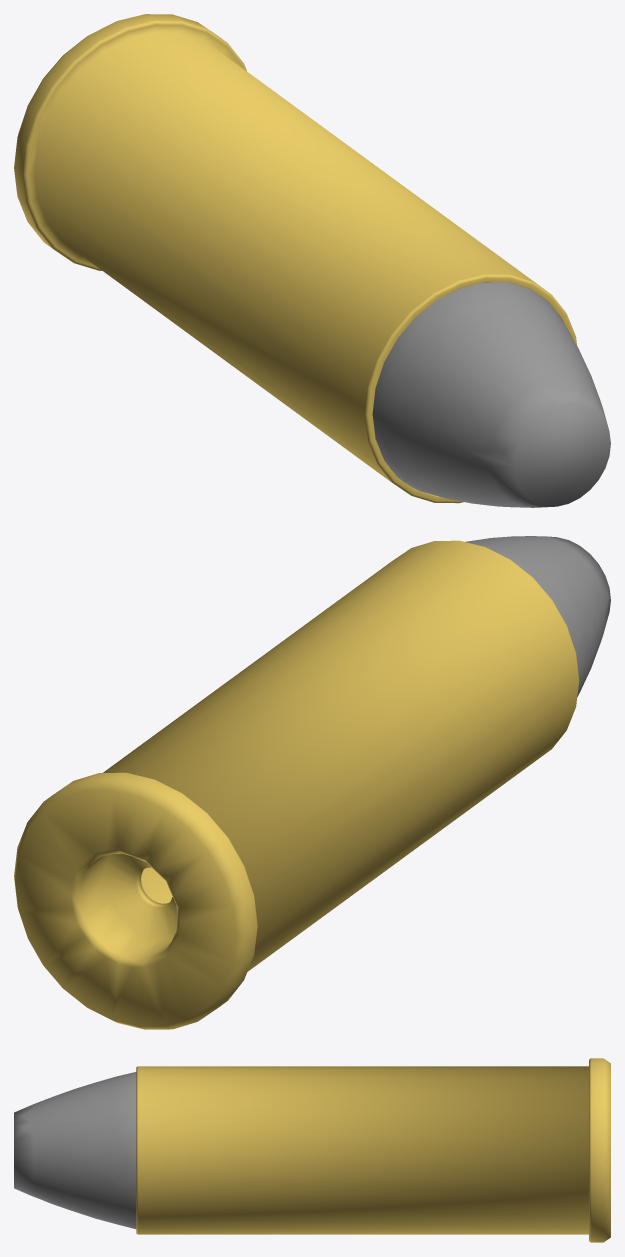
The picture shows the model from 3 angles, top to bottom: view 1: azimuth 30°, elevation 25°; view 2: azimuth 150°, elevation 25°; view 3: azimuth 270°, elevation 25°; orthographic projection. The views are drawn at different scales.
Visible parts, largest first — view 1: Body033, Body034; view 2: Body033, Body034; view 3: Body033, Body034.
Boxes of the visible parts, x1,y1,x2,y2 form: Body033: (14, 14, 576, 503); Body034: (372, 282, 610, 507); Body033: (14, 540, 579, 1029); Body034: (465, 536, 610, 696); Body033: (136, 1058, 610, 1242); Body034: (14, 1072, 136, 1229).
Size of the model in its own units: 1270 by 1261 by 4100.
